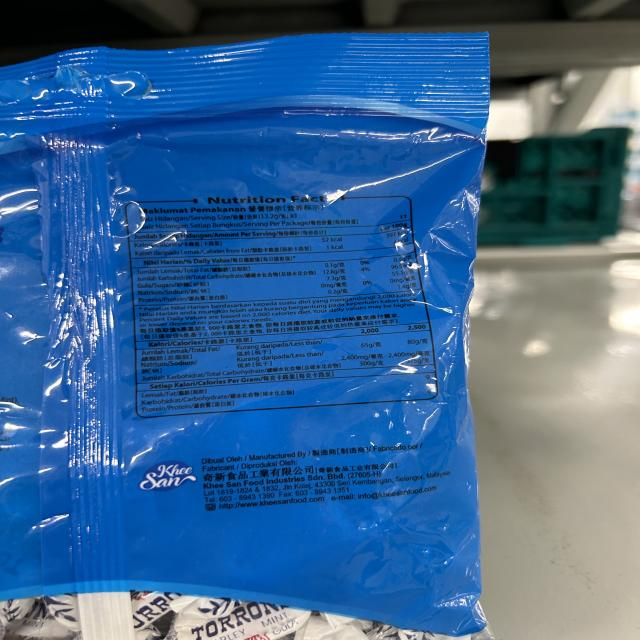object_name: (5, 41, 479, 640)
